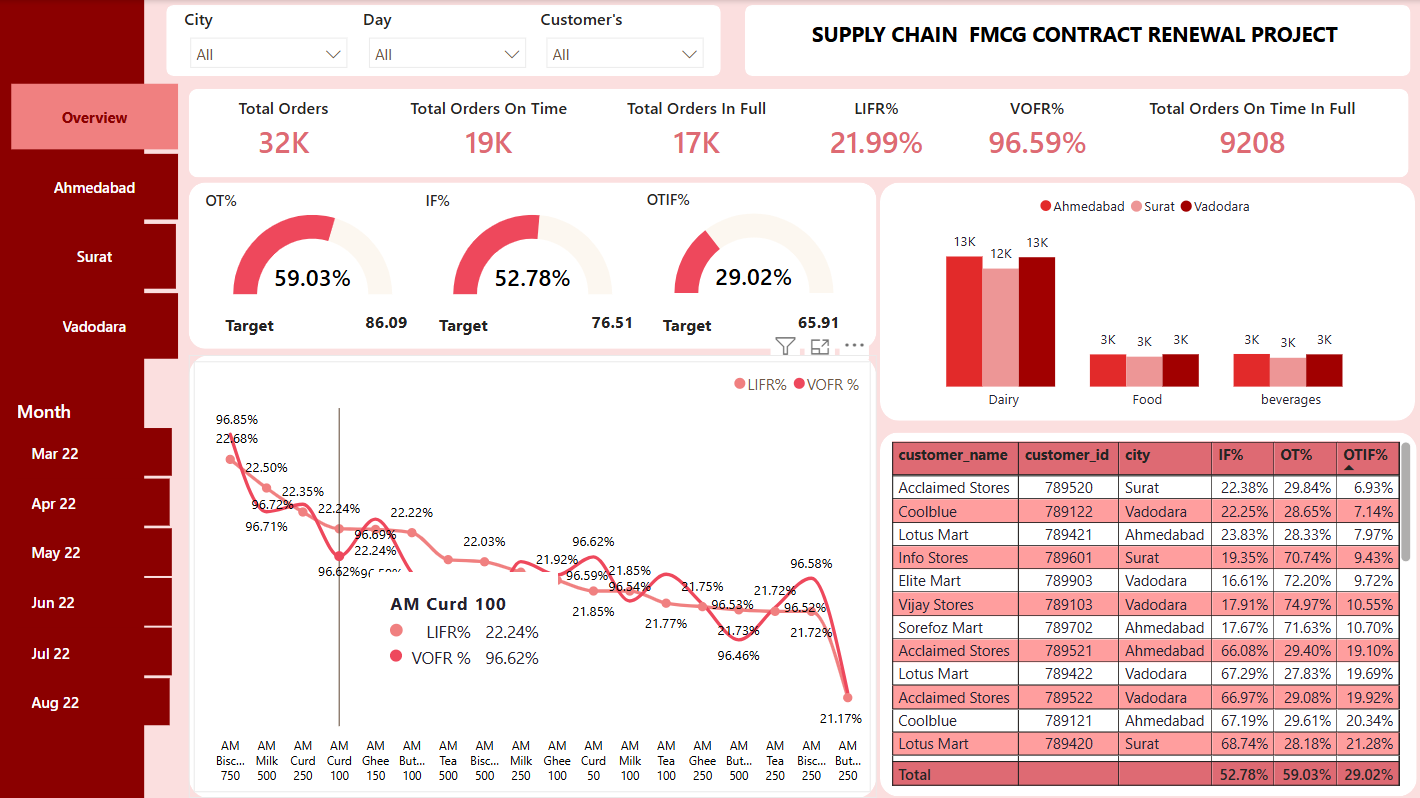

What the dashboard file says about the page in this screenshot:
{"tool":"powerbi","page":{"name":"Overview","canvas":[1280,720],"ordinal":0},"visuals":[{"type":"group","id":"g1","title":"page nav + BG","box":[0,0,160,720],"z":0},{"type":"shape","box":[0,0,130,720],"z":0,"group":"g1"},{"type":"shape","box":[150,5,500,64],"z":0,"group":"g6"},{"type":"shape","box":[672,5,600,64],"z":0,"group":"g2"},{"type":"shape","box":[170,80,1100,80],"z":0,"group":"g4"},{"type":"shape","box":[170,165,620,150],"z":0,"group":"g7"},{"type":"shape","box":[794,165,482.2,214.8],"z":0,"group":"g3"},{"type":"shape","box":[170,320,620,400],"z":0,"group":"g8"},{"type":"shape","box":[794,390,484,328],"z":0,"group":"g5"},{"type":"group","id":"g2","title":"Group 4","box":[672,5,600,64],"z":1000},{"type":"slicer","title":"Customer''s","fields":{"Values":["dim_customers.customer_name"]},"box":[483,7.7,161.6,54.9],"z":1000,"group":"g6"},{"type":"textbox","box":[676.8,8.4,585.6,54.9],"z":1000,"group":"g2"},{"type":"card","title":"Total Orders","fields":{"Values":["New Measures (2).Total Orders"]},"box":[178.9,87,152.6,64],"z":1000,"group":"g4"},{"type":"clusteredColumnChart","title":"Product Counts","fields":{"Category":["dim_products.category"],"Y":["CountNonNull(fact_order_lines.product_id)"],"Series":["dim_customers.city"]},"box":[802.1,171.3,466.1,202.2],"z":1000,"group":"g3"},{"type":"gauge","title":"OT% ","fields":{"Y":["New Measures (2).OT%"],"TargetValue":["New Measures (2).On time target"]},"box":[179.8,171.5,203.1,99.1],"z":1000,"group":"g7"},{"type":"lineChart","title":"LIFR% and VOFR %","fields":{"Category":["dim_products.product_name"],"Y":["New Measures (2).LIFR%"],"Y2":["New Measures (2).VOFR %"]},"box":[174.6,326.1,609.9,387.9],"z":1000,"group":"g8"},{"type":"advancedSlicerVisual","title":"Month","fields":{"Values":["dim_date.mmm_yy"]},"box":[10,360,150,300],"z":1000,"group":"g1"},{"type":"tableEx","fields":{"Values":["dim_customers.customer_name","dim_customers.customer_id","dim_customers.city","New Measures (2).IF%","New Measures (2).OT%","New Measures (2).OTIF%"]},"box":[798,393,479,320],"z":1000,"group":"g5"},{"type":"slicer","title":"Day","fields":{"Values":["dim_date.d_mmm"]},"box":[322.4,7.7,161.6,54.9],"z":2000,"group":"g6"},{"type":"pageNavigator","box":[10,75,150,250],"z":2000,"group":"g1"},{"type":"card","title":"Total Orders In Full","fields":{"Values":["Sum(fact_orders_aggregate.in_full)"]},"box":[536.2,87,183.1,64],"z":2000,"group":"g4"},{"type":"group","id":"g3","title":"Group 2","box":[794,165,486,220],"z":2000},{"type":"card","title":"Target","fields":{"Values":["New Measures (2).On time target"]},"box":[302.6,275.3,90.3,35.2],"z":2000,"group":"g7"},{"type":"slicer","title":"City","fields":{"Values":["dim_customers.city"]},"box":[160.8,7.7,161.6,54.9],"z":3000,"group":"g6"},{"type":"group","id":"g4","title":"KPI Cards","box":[170,80,1100,80],"z":3000},{"type":"card","title":"Total Orders On Time","fields":{"Values":["Sum(fact_orders_aggregate.on_time)"]},"box":[332.8,87,216.2,64],"z":3000,"group":"g4"},{"type":"textbox","box":[188.3,275.3,73.3,32.7],"z":3000,"group":"g7"},{"type":"card","title":"LIFR%","fields":{"Values":["New Measures (2).LIFR%"]},"box":[719.4,87,142.4,64],"z":4000,"group":"g4"},{"type":"gauge","title":"IF% ","fields":{"TargetValue":["New Measures (2).On time target"],"Y":["New Measures (2).IF%"]},"box":[378.4,171.5,203.1,99.1],"z":4000,"group":"g7"},{"type":"group","id":"g5","title":"Group 3","box":[794,390,484,328],"z":4000},{"type":"group","id":"g6","title":"Group 1","box":[150,5,500,64],"z":5000},{"type":"card","title":"VOFR%","fields":{"Values":["New Measures (2).VOFR %"]},"box":[861.8,87,146.2,64],"z":5000,"group":"g4"},{"type":"textbox","box":[371.7,275.3,91.7,32.7],"z":5000,"group":"g7"},{"type":"card","title":"Total Orders On Time In Full","fields":{"Values":["Sum(fact_orders_aggregate.otif)"]},"box":[1001.7,87,254.3,64],"z":6000,"group":"g4"},{"type":"group","id":"g7","title":"gauge","box":[170,165,620,150],"z":6000},{"type":"card","title":"Target","fields":{"Values":["New Measures (2).In Full Target"]},"box":[506.5,275.3,90.3,35.2],"z":6000,"group":"g7"},{"type":"gauge","title":"OTIF% ","fields":{"TargetValue":["New Measures (2).On time target"],"Y":["New Measures (2).OTIF%"]},"box":[578.2,170.8,203.1,99.1],"z":7000,"group":"g7"},{"type":"group","id":"g8","title":"Group 3","box":[170,320,620,400],"z":7000},{"type":"textbox","box":[573.4,275.3,91.7,32.7],"z":8000,"group":"g7"},{"type":"card","title":"Target","fields":{"Values":["New Measures (2).On Time In Full target"]},"box":[693.5,275.3,90.3,35.2],"z":9000,"group":"g7"}]}

Visuals, with their boxes in screenshot pixels (x1, y1, x2, y2), scaled from the page's 1280x720 canvas onto the 1420x798 screenshot:
"page nav + BG" group: region(0, 0, 178, 797)
shape: region(0, 0, 144, 797)
shape: region(166, 6, 721, 76)
shape: region(746, 6, 1411, 76)
shape: region(189, 89, 1409, 177)
shape: region(189, 183, 876, 349)
shape: region(881, 183, 1416, 421)
shape: region(189, 355, 876, 797)
shape: region(881, 432, 1418, 796)
"Group 4" group: region(746, 6, 1411, 76)
"Customer''s" slicer: region(536, 9, 715, 69)
textbox: region(751, 9, 1400, 70)
"Total Orders" card: region(198, 96, 368, 167)
"Product Counts" clusteredColumnChart: region(890, 190, 1407, 414)
"OT% " gauge: region(199, 190, 425, 300)
"LIFR% and VOFR %" lineChart: region(194, 361, 870, 791)
"Month" advancedSlicerVisual: region(11, 399, 178, 732)
tableEx - dim_customers.customer_name x dim_customers.customer_id: region(885, 436, 1417, 790)
"Day" slicer: region(358, 9, 537, 69)
pageNavigator: region(11, 83, 178, 360)
"Total Orders In Full" card: region(595, 96, 798, 167)
"Group 2" group: region(881, 183, 1419, 427)
"Target" card: region(336, 305, 436, 344)
"City" slicer: region(178, 9, 358, 69)
"KPI Cards" group: region(189, 89, 1409, 177)
"Total Orders On Time" card: region(369, 96, 609, 167)
textbox: region(209, 305, 290, 341)
"LIFR%" card: region(798, 96, 956, 167)
"IF% " gauge: region(420, 190, 645, 300)
"Group 3" group: region(881, 432, 1418, 796)
"Group 1" group: region(166, 6, 721, 76)
"VOFR%" card: region(956, 96, 1118, 167)
textbox: region(412, 305, 514, 341)
"Total Orders On Time In Full" card: region(1111, 96, 1393, 167)
"gauge" group: region(189, 183, 876, 349)
"Target" card: region(562, 305, 662, 344)
"OTIF% " gauge: region(641, 189, 867, 299)
"Group 3" group: region(189, 355, 876, 797)
textbox: region(636, 305, 738, 341)
"Target" card: region(769, 305, 870, 344)
